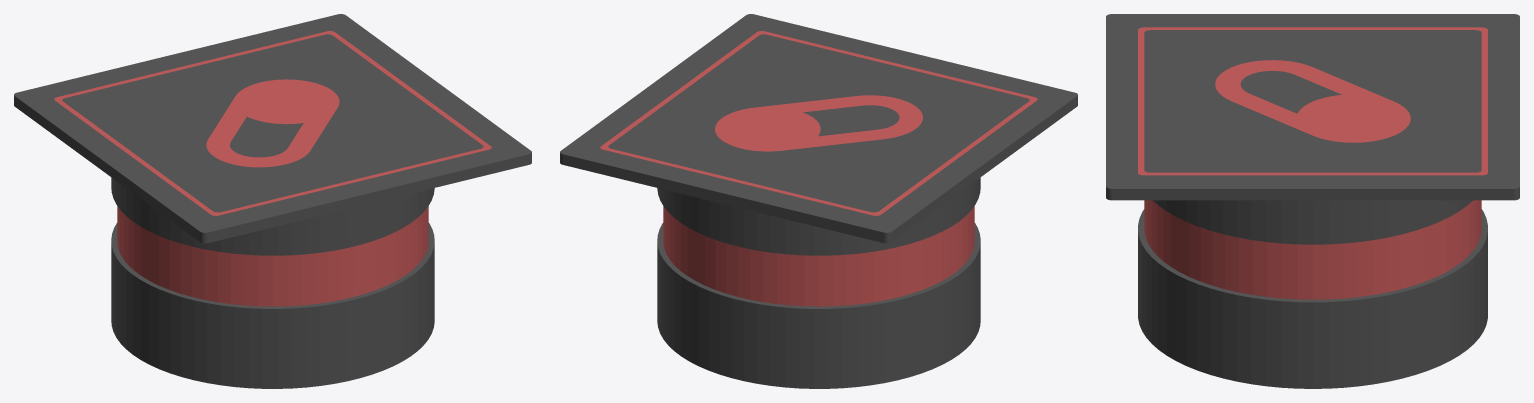
The model's file is bomboniera-farmacia-facolta-montato.glb.
The picture shows the model from 3 angles, left to right: view 1: azimuth 30°, elevation 25°; view 2: azimuth 150°, elevation 25°; view 3: azimuth 270°, elevation 25°; orthographic projection. The views are drawn at different scales.
Parts seen in each view (by area): view 1: struttura_coperchio, struttura_base, fascia, simbolo_intarsio, bordo; view 2: struttura_coperchio, struttura_base, fascia, simbolo_intarsio, bordo; view 3: struttura_coperchio, struttura_base, fascia, simbolo_intarsio, bordo.
Part boxes in pixels (bbox=[...]): struttura_coperchio: bbox=[14, 14, 531, 255]; struttura_base: bbox=[111, 223, 434, 388]; fascia: bbox=[117, 206, 428, 306]; simbolo_intarsio: bbox=[206, 79, 339, 167]; bordo: bbox=[54, 31, 491, 215]; struttura_coperchio: bbox=[560, 14, 1077, 255]; struttura_base: bbox=[657, 223, 980, 388]; fascia: bbox=[663, 206, 974, 306]; simbolo_intarsio: bbox=[715, 95, 922, 151]; bordo: bbox=[600, 31, 1037, 215]; struttura_coperchio: bbox=[1106, 14, 1519, 244]; struttura_base: bbox=[1138, 209, 1487, 388]; fascia: bbox=[1144, 200, 1481, 299]; simbolo_intarsio: bbox=[1215, 60, 1410, 142]; bordo: bbox=[1138, 27, 1487, 175].
Size of the model in its own units: 0.065 by 0.037 by 0.065.
